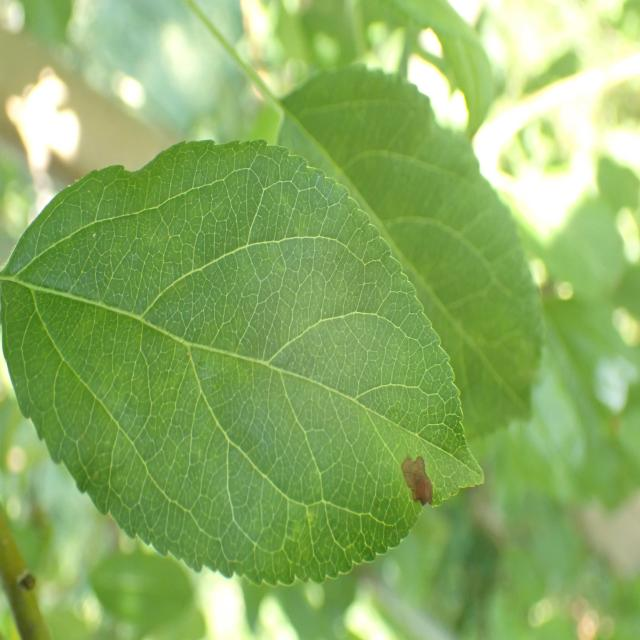Black Rot: (396, 427, 438, 522)
